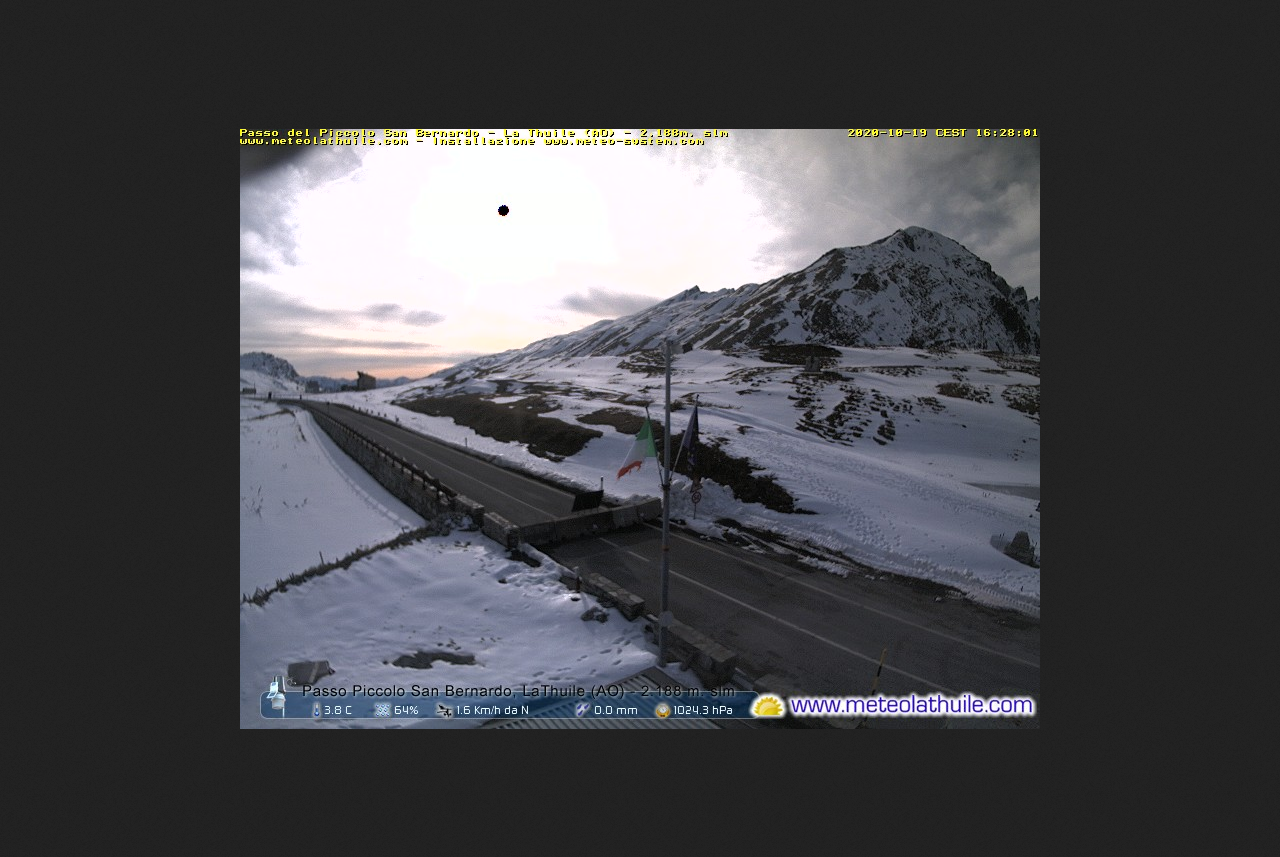maybe: (616, 417, 658, 480), (679, 407, 705, 505)
